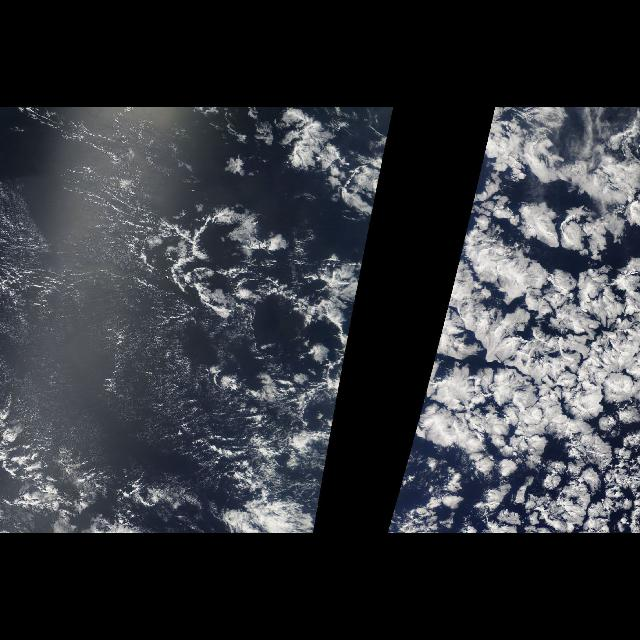Flower: (420, 247, 636, 468)
Gravel: (126, 168, 330, 394)
Sugar: (3, 178, 201, 490)
